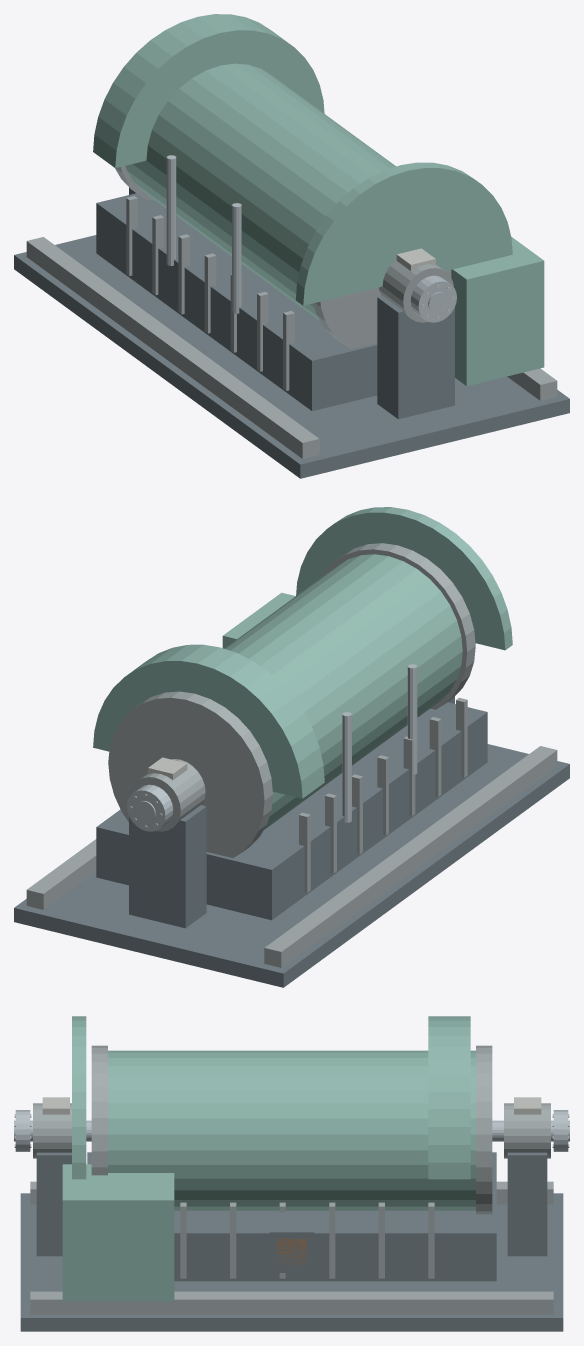
Rendered from compact.obj.
The picture shows the model from 3 angles, top to bottom: view 1: azimuth 30°, elevation 25°; view 2: azimuth 150°, elevation 25°; view 3: azimuth 270°, elevation 25°; orthographic projection. The views are drawn at different scales.
Bounding box in the file's own units: 0.4896 × 0.4324 × 0.9.
